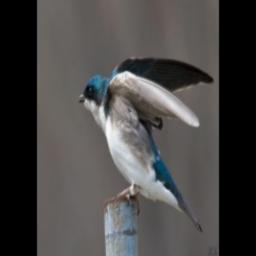Swallow: (76, 52, 215, 236)
